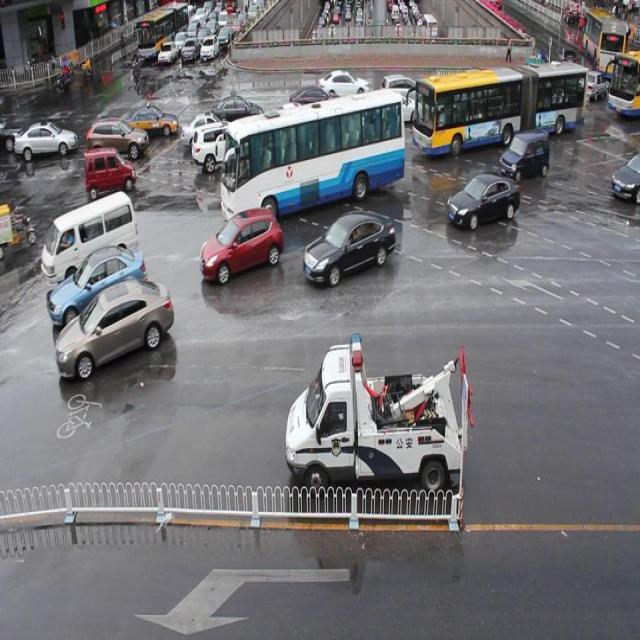bus: (286, 333, 474, 494)
car: (57, 280, 173, 376), (49, 246, 145, 326), (304, 208, 395, 286), (201, 209, 282, 283), (448, 176, 519, 228), (192, 125, 255, 171), (83, 148, 137, 198), (88, 116, 148, 160), (288, 99, 344, 145), (498, 132, 549, 182), (16, 124, 78, 159), (180, 113, 234, 147), (213, 93, 266, 127), (373, 87, 423, 122), (125, 106, 179, 138), (272, 99, 317, 137), (317, 70, 369, 101), (289, 84, 338, 115), (460, 84, 495, 125), (610, 158, 640, 204), (456, 70, 493, 107), (380, 73, 421, 102), (511, 68, 543, 100), (485, 77, 516, 108)
truck: (44, 193, 139, 283)
van: (222, 98, 405, 213), (413, 64, 586, 142)
